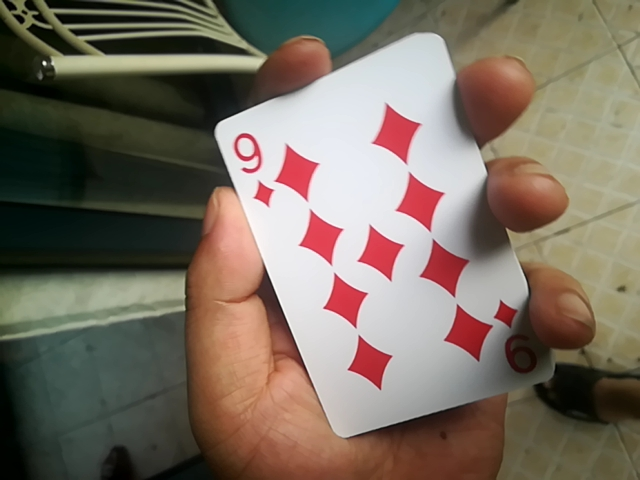fk 9: (215, 25, 546, 449)
